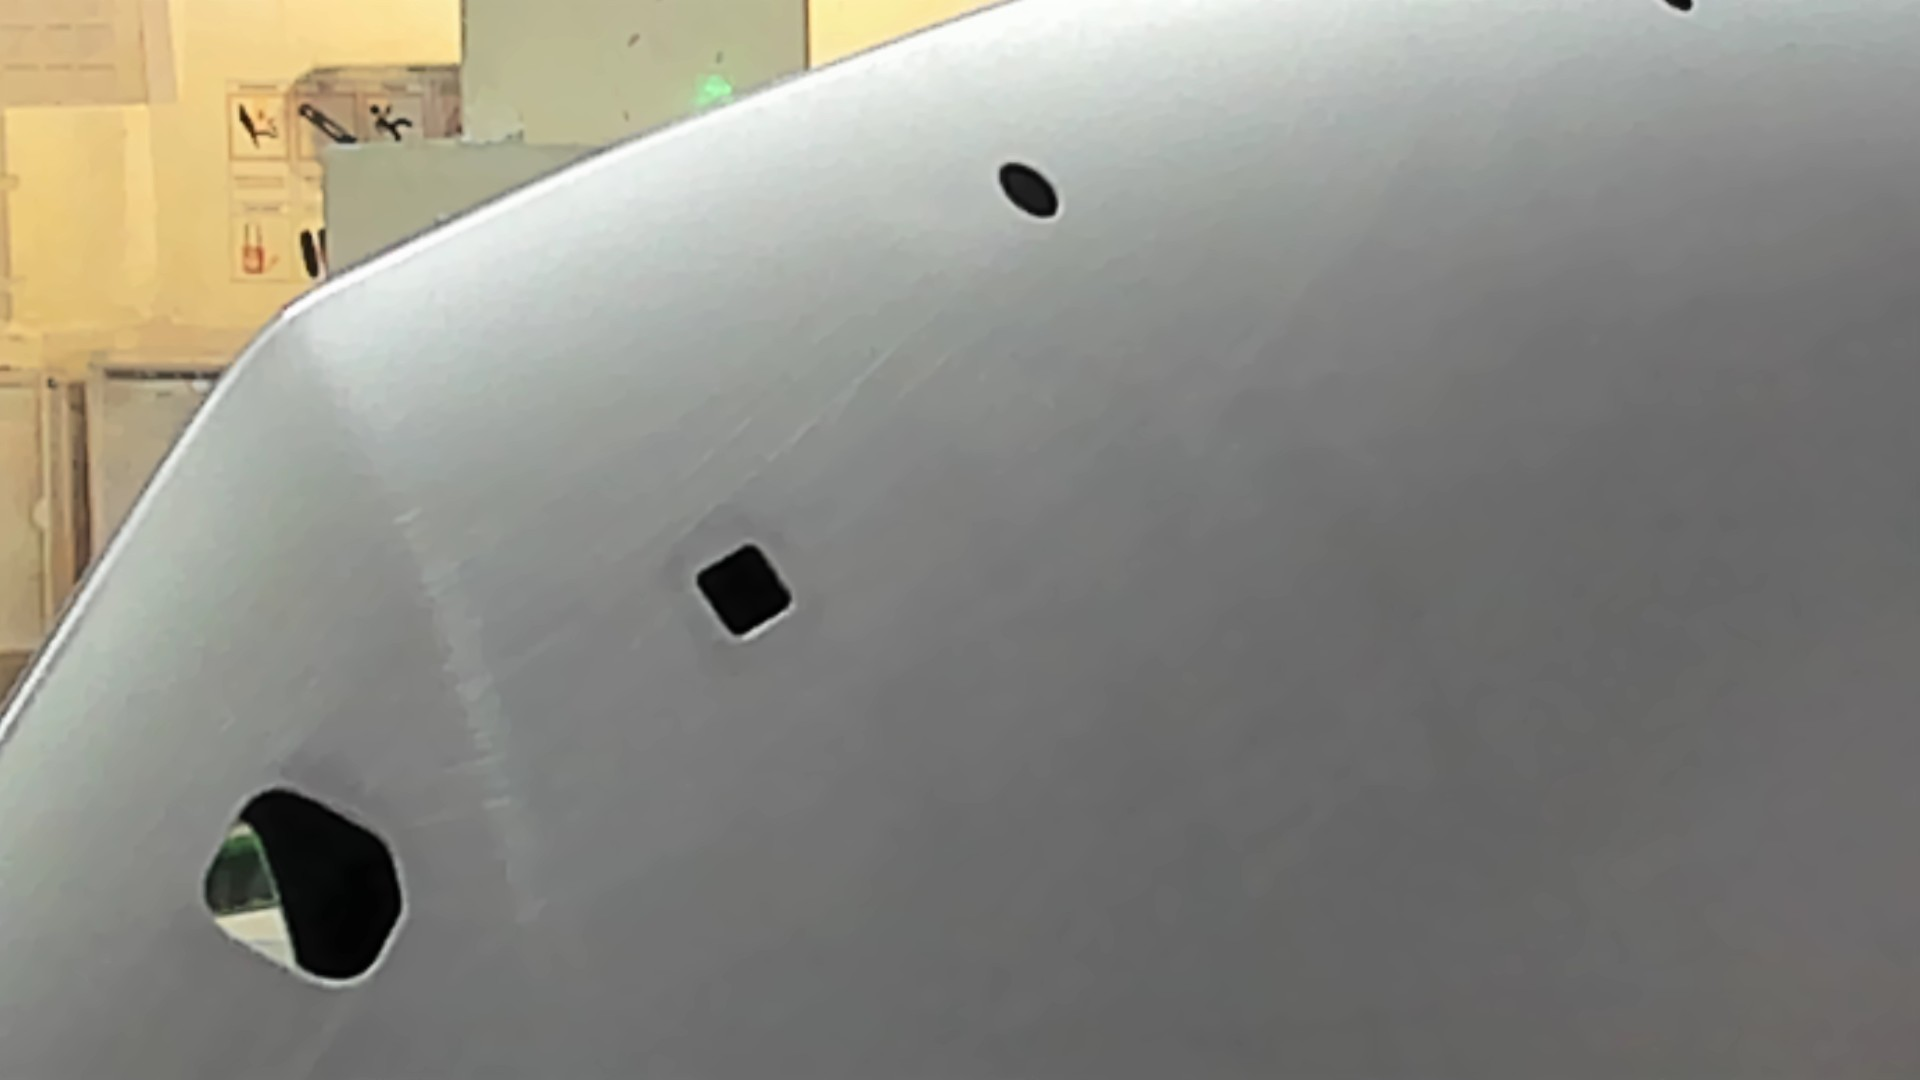chico: (984, 146, 1069, 227)
grande: (183, 789, 415, 992)
mediano: (674, 529, 802, 651)
